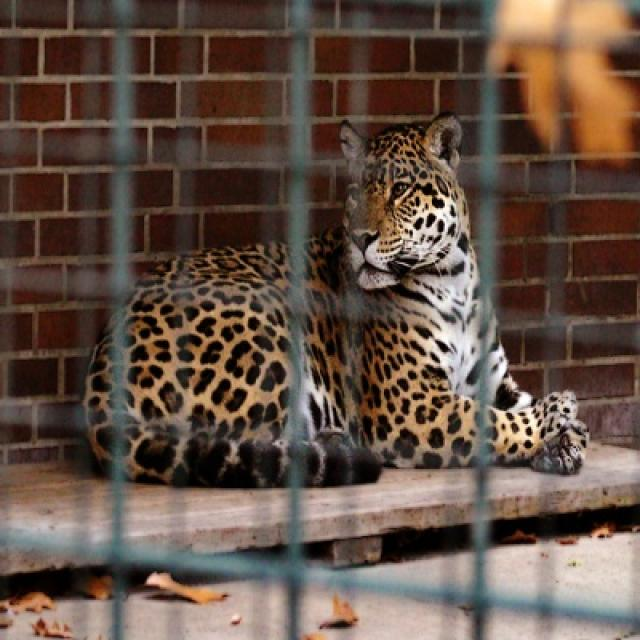Jaguar: (86, 93, 589, 490)
